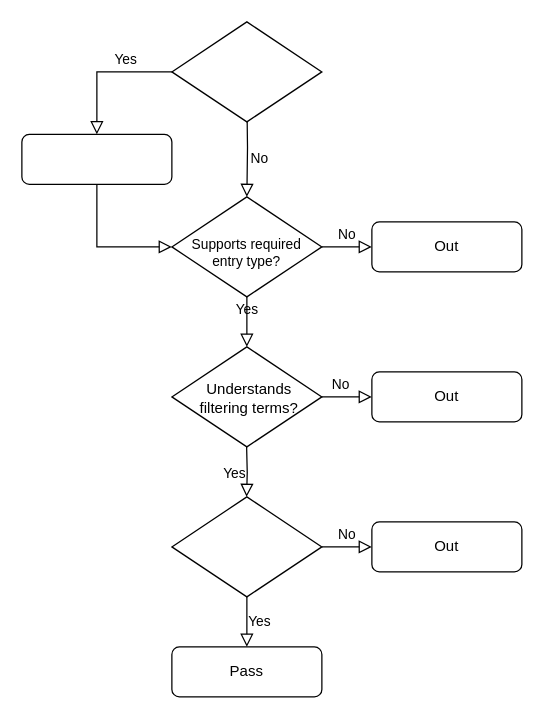
Some shapes in this 544 by 719 pixel diagram are drawn without their labels. Here are the shapes that lost their labels. From the top down, the centre of each, then its label:
At point (246, 71): "Requires Authentication".
At point (96, 158): "Authentication".
At point (246, 546): "Supports requested Schema?".
